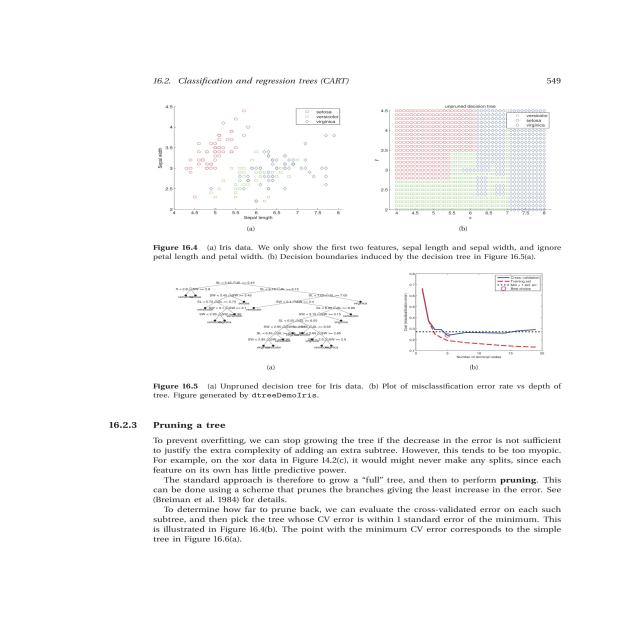diagram: (113, 91, 624, 404)
